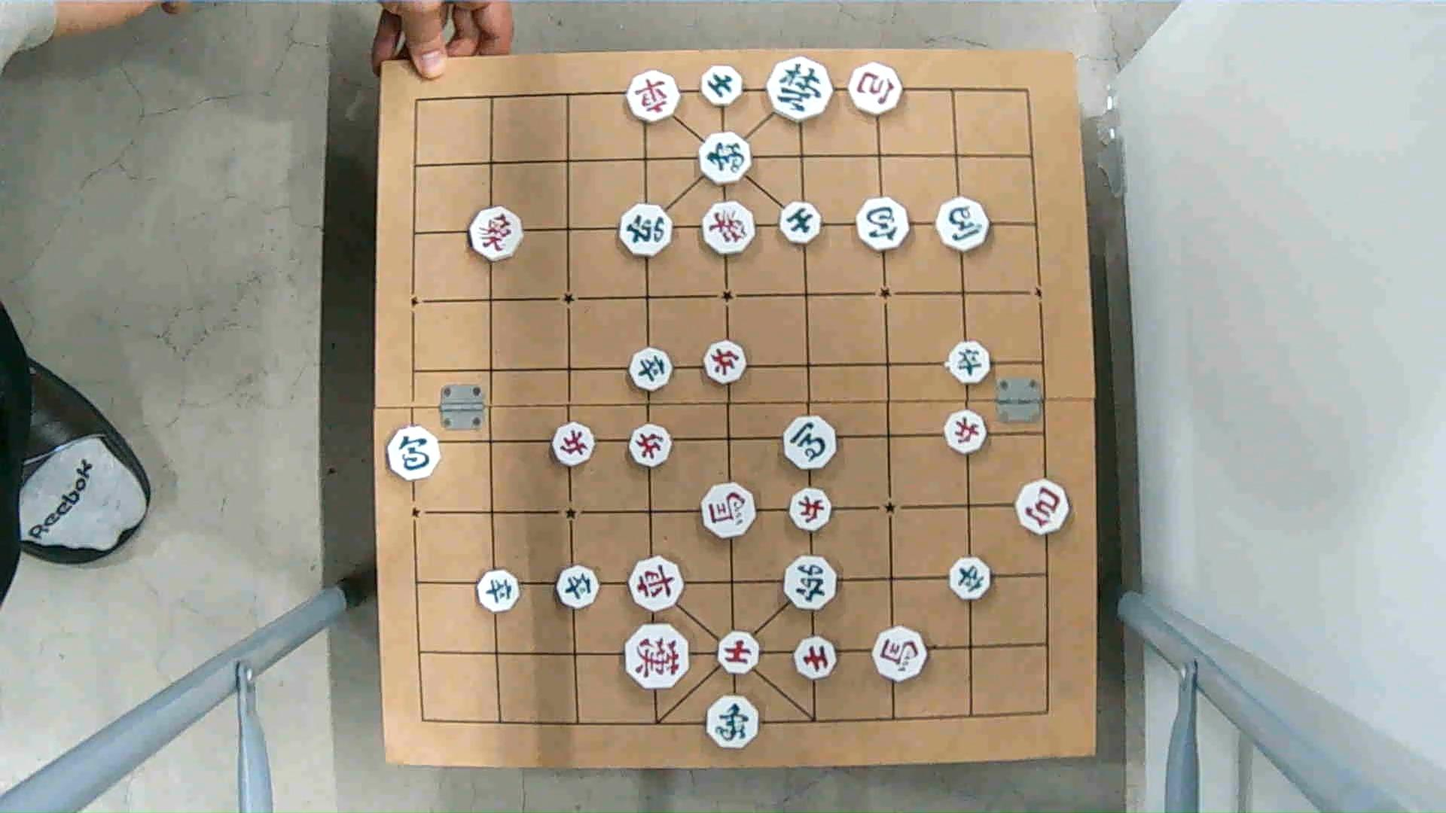cha_green: (782, 559, 840, 610), (619, 205, 671, 258)
cha_red: (630, 561, 688, 609), (624, 73, 681, 121)
jol_green: (477, 572, 520, 614), (559, 566, 600, 609), (948, 343, 993, 382), (947, 559, 995, 595), (630, 347, 674, 386)
jol_red: (941, 412, 990, 452), (551, 426, 599, 465), (627, 427, 675, 466), (788, 489, 834, 529), (703, 344, 752, 380)
ma_green: (779, 419, 839, 470), (933, 200, 990, 251)
ma_red: (700, 484, 758, 535), (871, 629, 929, 678)
po_green: (388, 426, 438, 480), (856, 202, 910, 248)
po_red: (1015, 482, 1072, 530), (850, 64, 902, 114)
sa_green: (780, 201, 823, 241), (702, 67, 743, 104)
sa_red: (794, 638, 839, 678), (719, 633, 759, 671)
sang_green: (700, 132, 750, 182), (709, 701, 756, 748)
sang_red: (702, 200, 756, 253), (466, 209, 525, 256)
wang_green: (768, 62, 831, 120)
wang_red: (626, 629, 687, 684)
